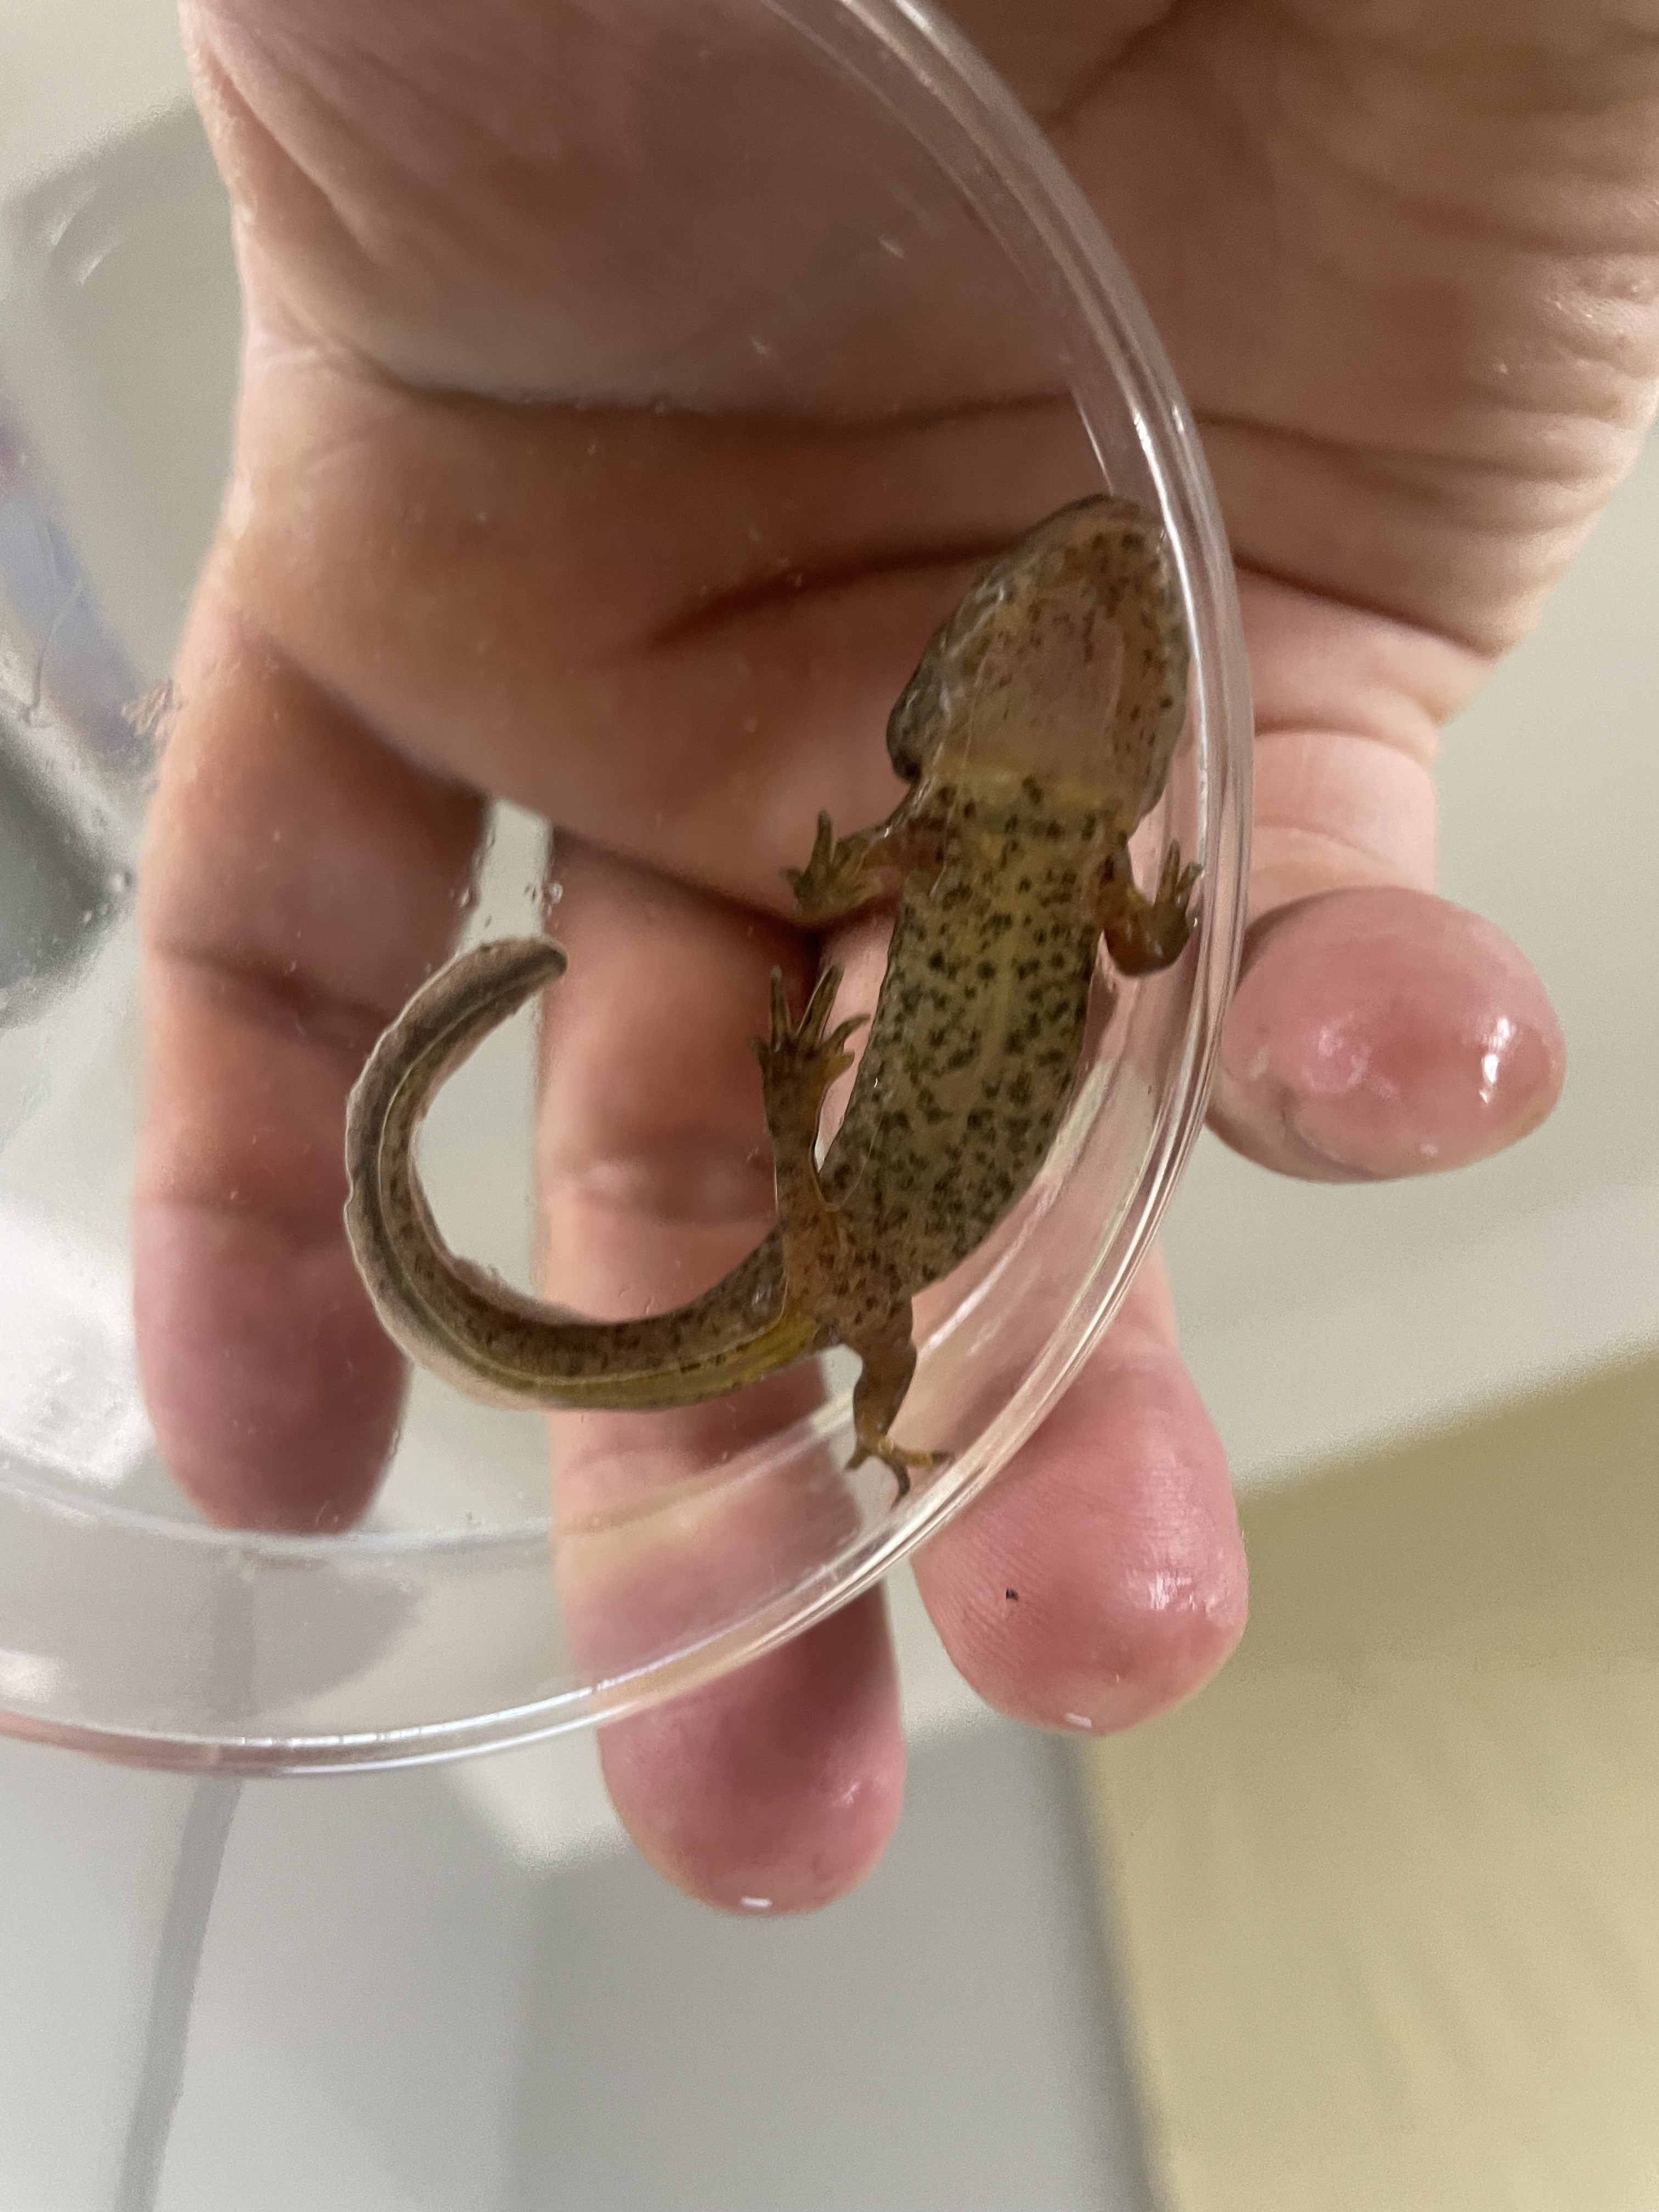newt_ribbed: (816, 871, 1103, 1296)
